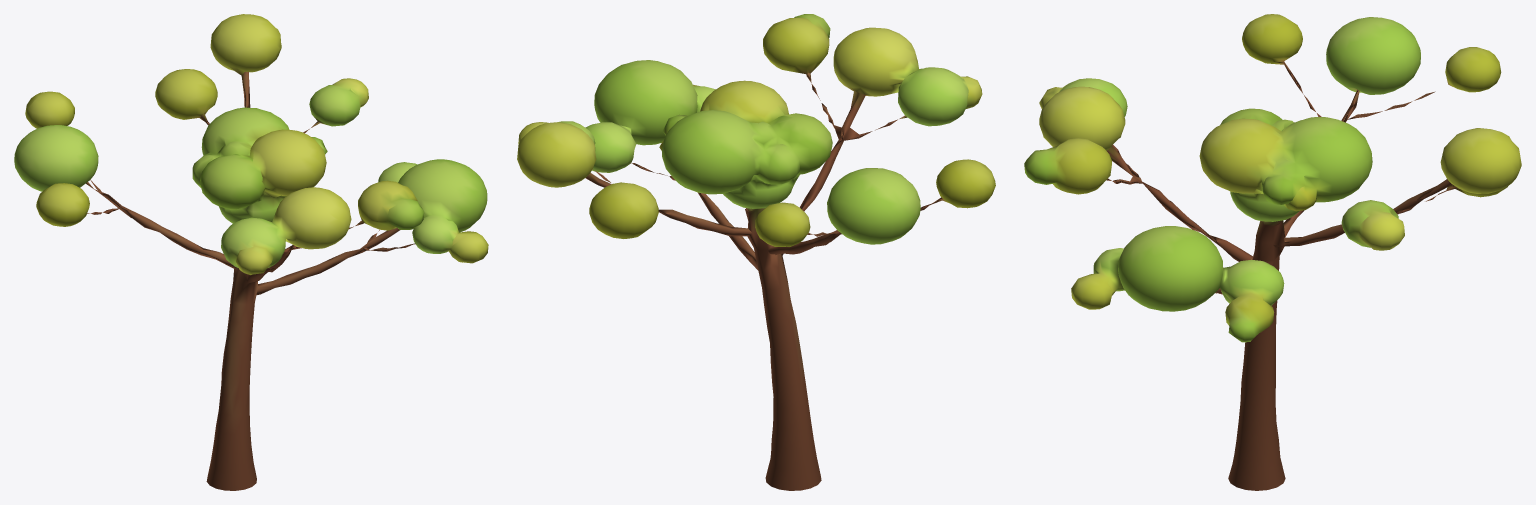
File: acacia-tree-1-lod1.obj
3 renders of one model, left to right at view 1: azimuth 30°, elevation 25°; view 2: azimuth 150°, elevation 25°; view 3: azimuth 270°, elevation 25°, orthographic. The views are drawn at different scales.
Parts seen in each view (by area): view 1: simplified; view 2: simplified; view 3: simplified.
Part boxes in pixels (x1,y1,x2,y2): simplified: (14,14,488,490); simplified: (517,14,995,490); simplified: (1024,14,1521,490).
Size of the model in its own units: 606 by 499 by 551.
